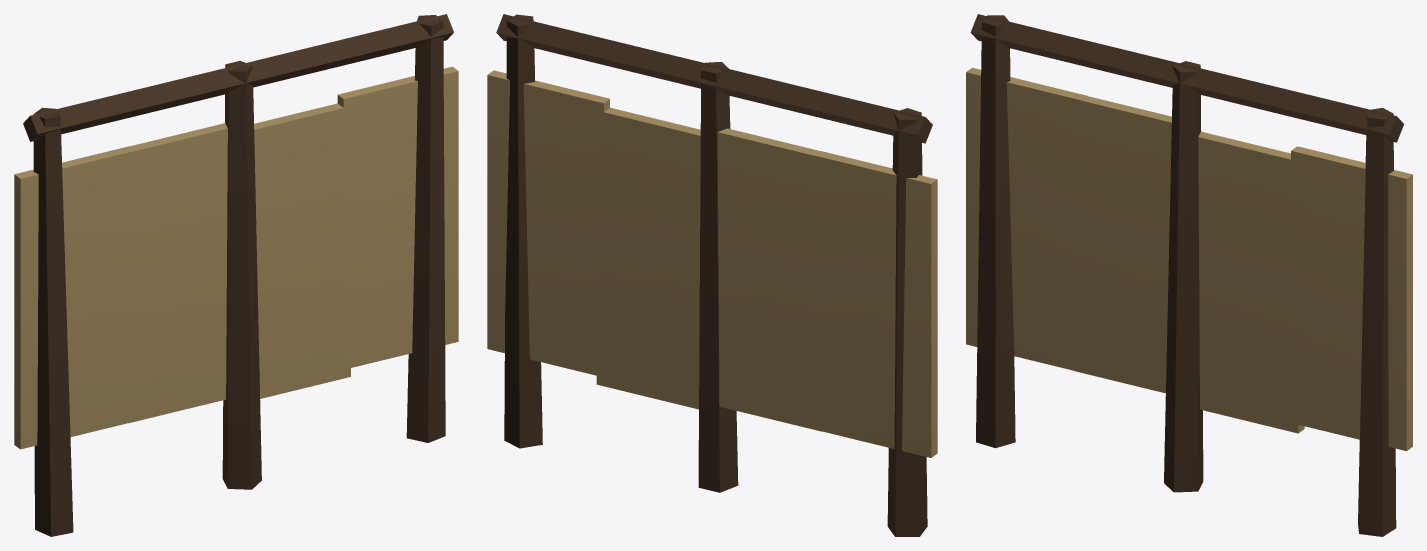
File: caral_windbreak_lod0.glb
The picture shows the model from 3 angles, left to right: view 1: azimuth 30°, elevation 25°; view 2: azimuth 150°, elevation 25°; view 3: azimuth 330°, elevation 25°; orthographic projection.
Parts seen in each view (by area): view 1: GEO-Props_windbreak_LOD0; view 2: GEO-Props_windbreak_LOD0; view 3: GEO-Props_windbreak_LOD0.
Boxes of the visible parts, <box> form: GEO-Props_windbreak_LOD0: <box>14,14,458,536</box>; GEO-Props_windbreak_LOD0: <box>487,14,937,536</box>; GEO-Props_windbreak_LOD0: <box>966,14,1412,536</box>.
Size of the model in its own units: 1.22 by 1.11 by 0.1138.
